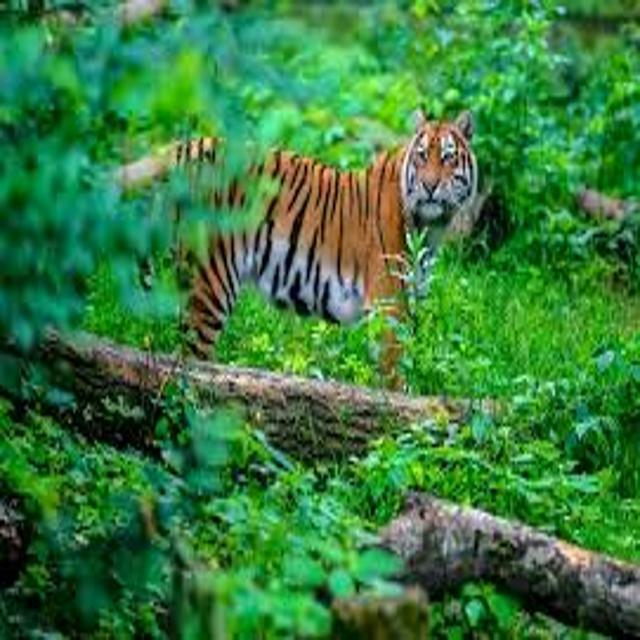Tiger: (103, 109, 548, 375)
